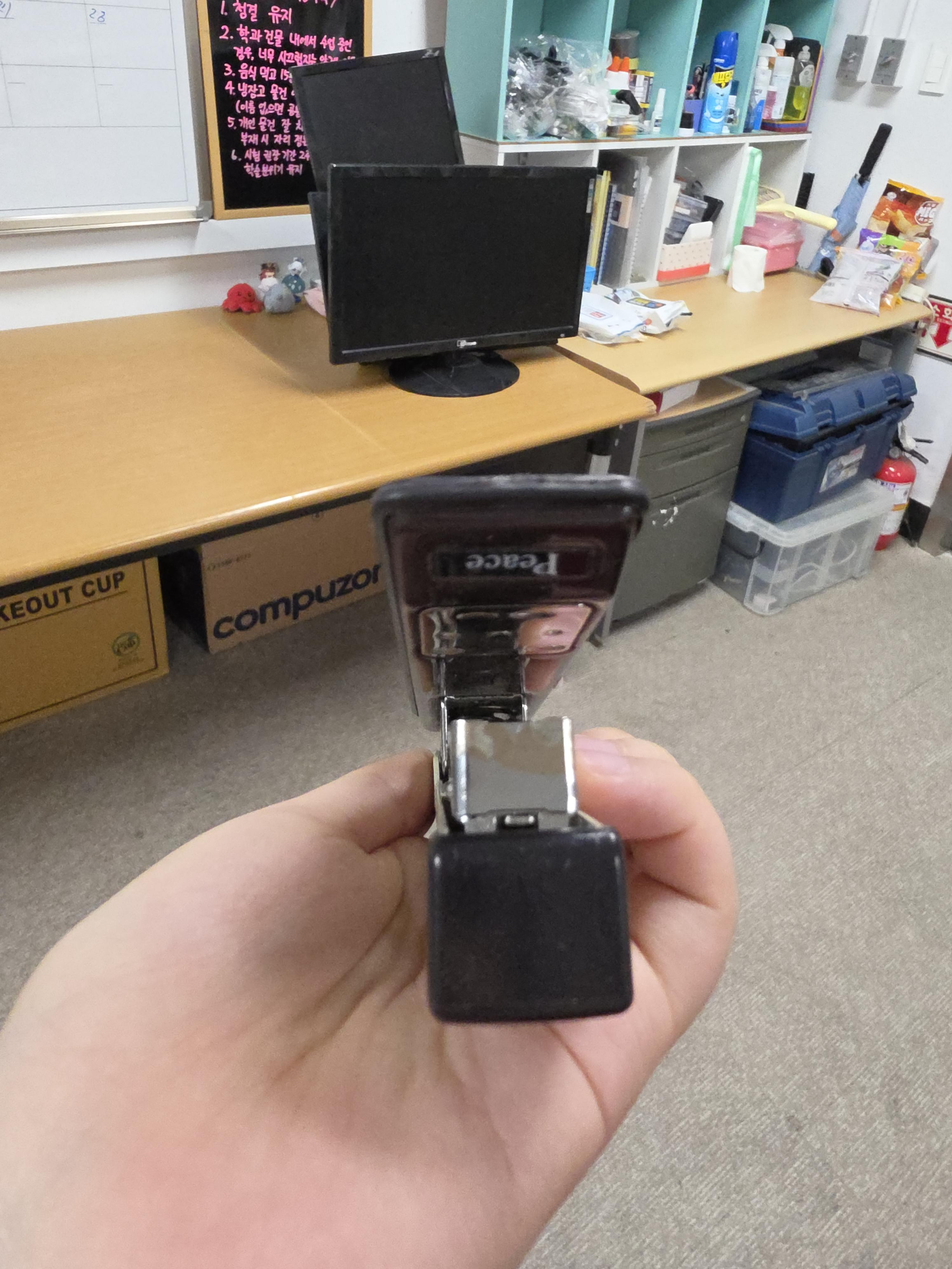stapler: (370, 471, 650, 1026)
tissue: (657, 220, 714, 283), (728, 244, 767, 293)
